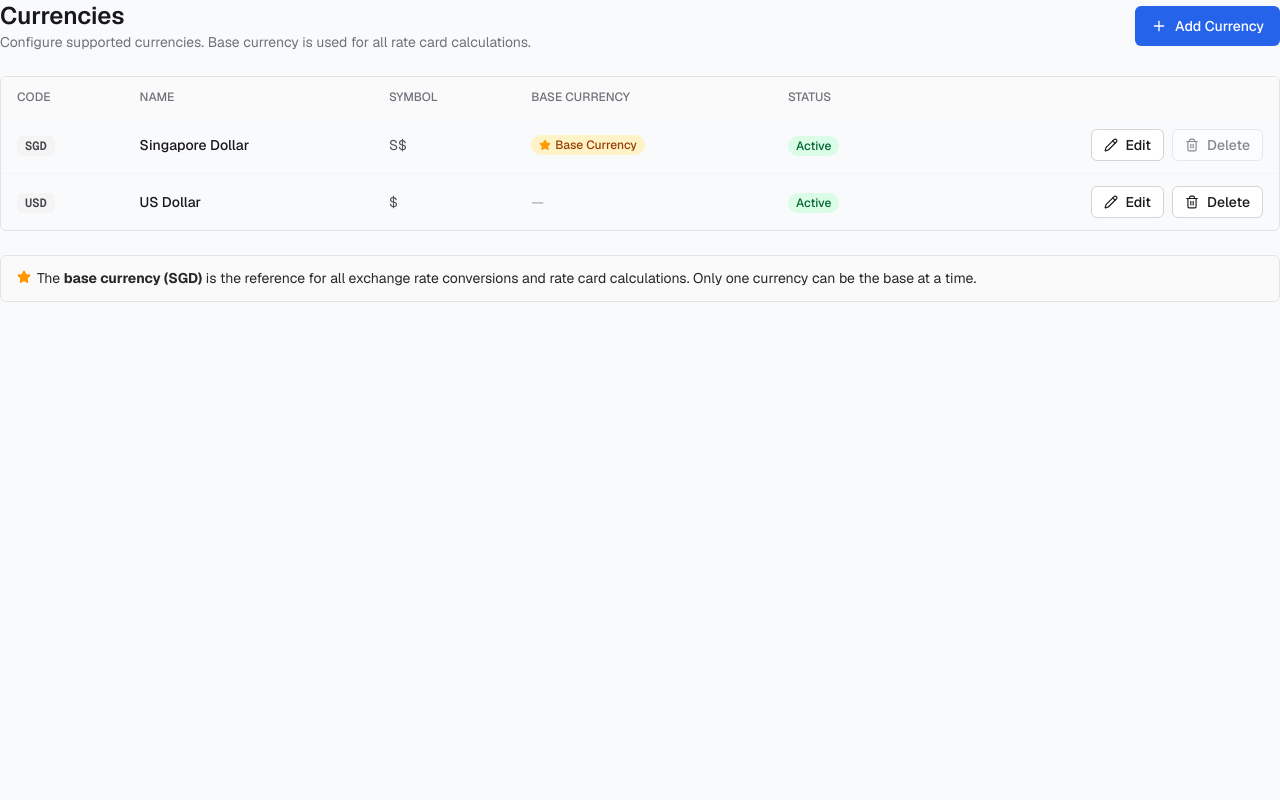
Scenario: CurrenciesTable › closes the confirm dialog without deleting when cancelled
This screenshot has width=1280, height=800.
Expected: the text "Singapore Dollar" is shown, [124,117,373,174]
Click the button "Delete" in the row of "USD" at {"x": 1217, "y": 202}, box [1172,186,1263,218]
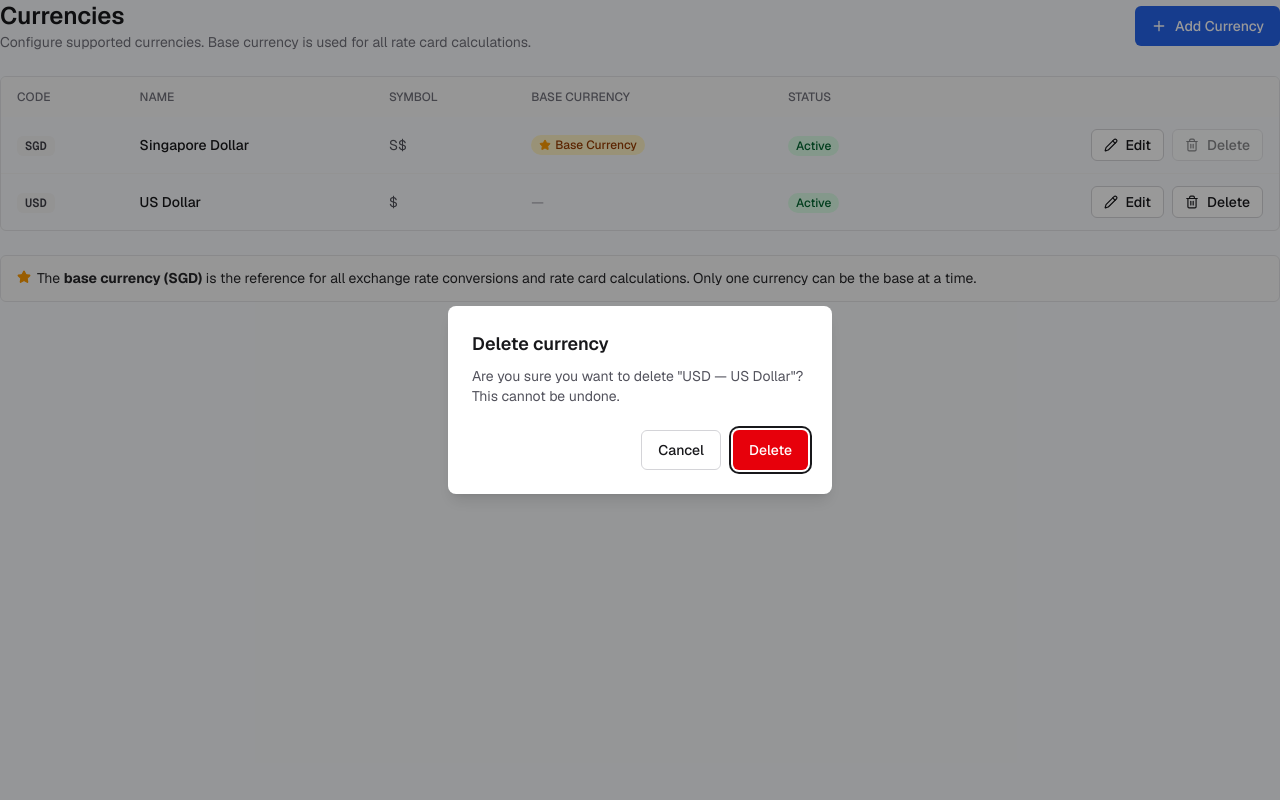
Click the button "Cancel" at {"x": 681, "y": 450}, box [641,430,721,470]
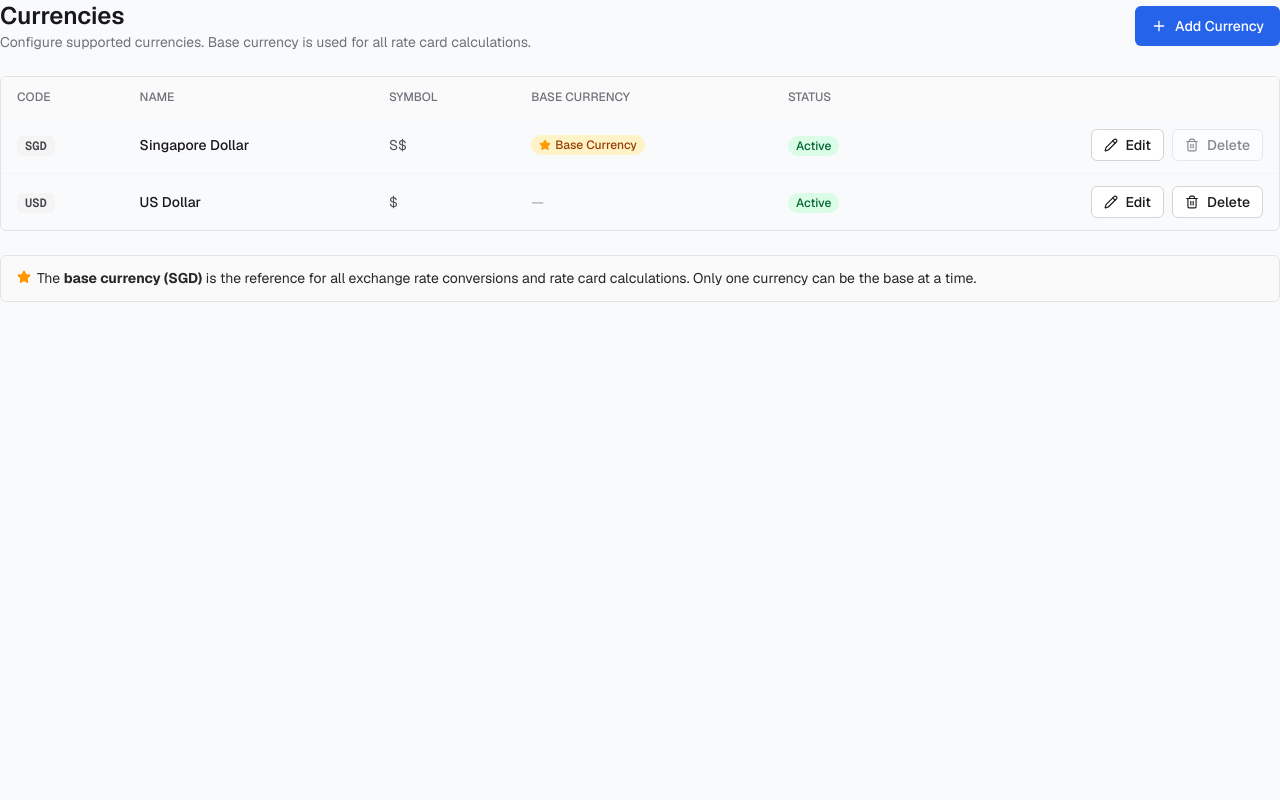
Expected: the dialog is gone
